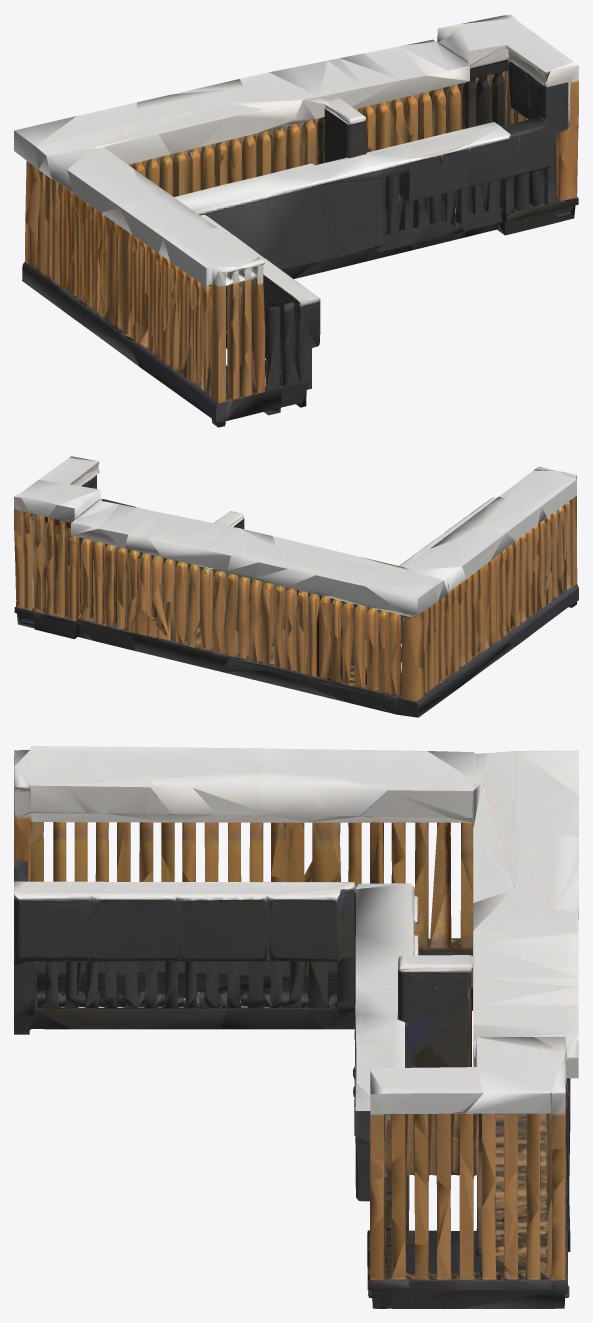
Rendered from reception_desk.glb.
3 renders of one model, top to bottom at view 1: azimuth 30°, elevation 25°; view 2: azimuth 150°, elevation 25°; view 3: azimuth 270°, elevation 25°, orthographic. The views are drawn at different scales.
Size of the model in its own units: 2 by 0.6103 by 1.4.
Materials: 1 (1 with a texture image).
